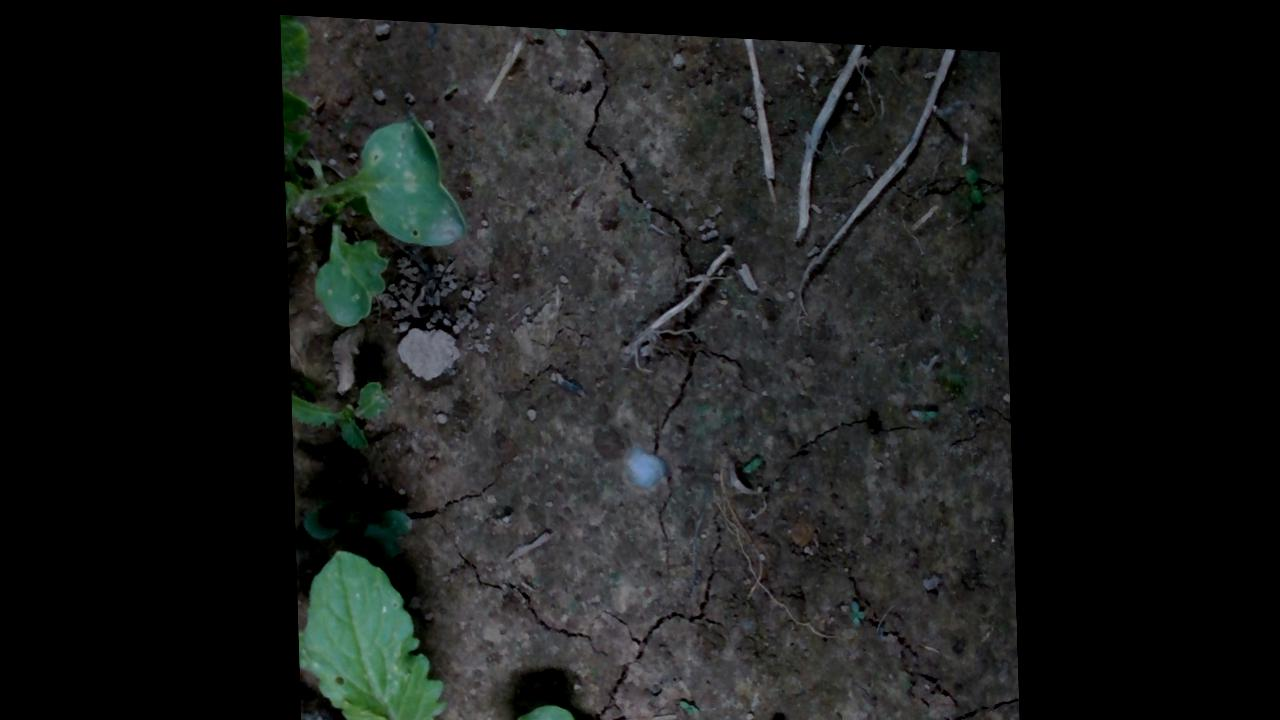weed: (744, 714, 783, 719)
